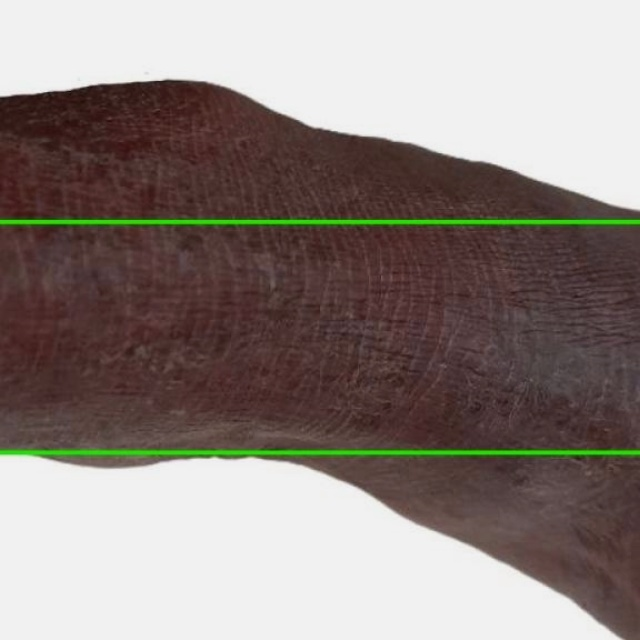Contact Dermatitis: (0, 0, 639, 221), (0, 453, 639, 639)
